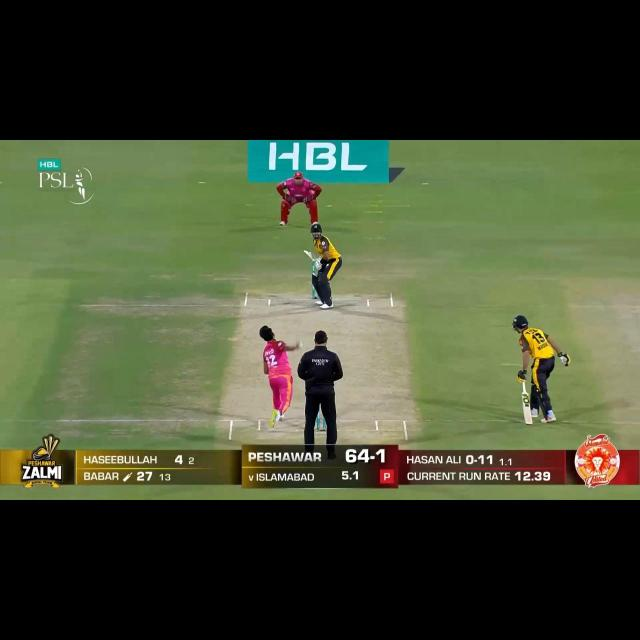bat: (521, 393, 535, 425), (301, 250, 316, 260)
toe: (524, 416, 534, 426), (302, 249, 310, 255)
